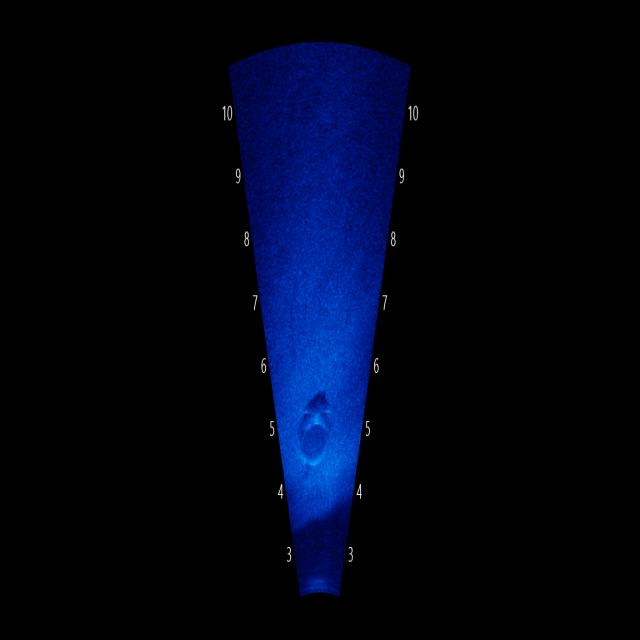circle: (296, 398, 336, 481)
